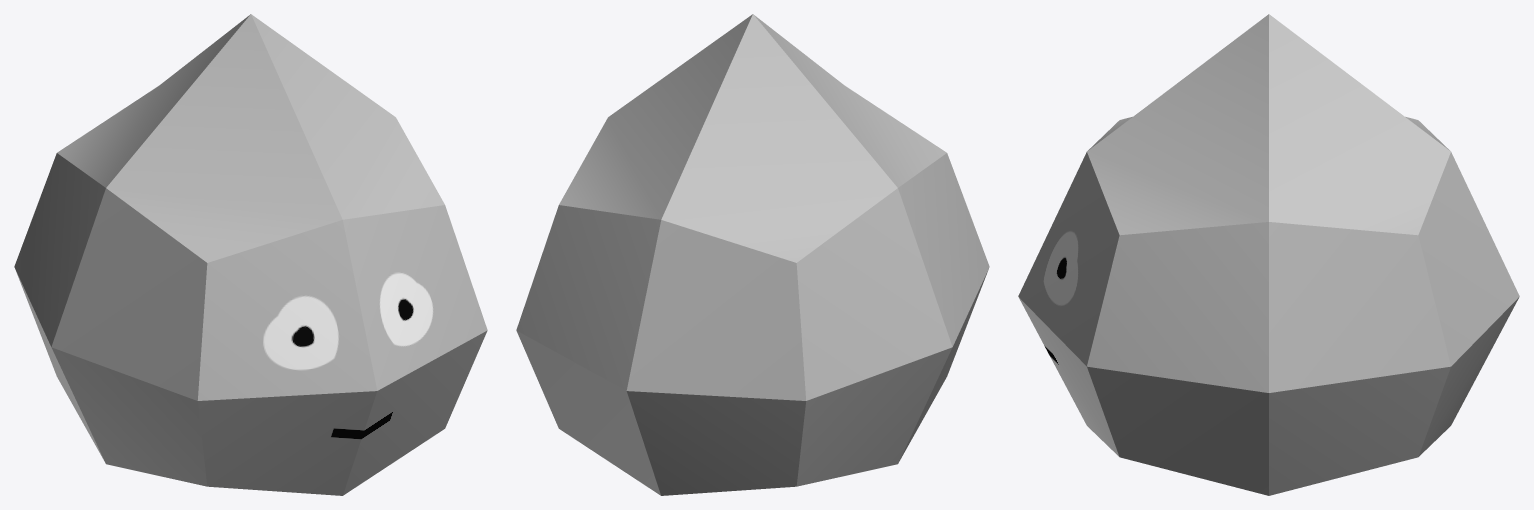
The model's file is player.obj.
The picture shows the model from 3 angles, left to right: view 1: azimuth 30°, elevation 25°; view 2: azimuth 150°, elevation 25°; view 3: azimuth 270°, elevation 25°; orthographic projection.
Parts seen in each view (by area): view 1: 立方体; view 2: 立方体; view 3: 立方体.
Boxes of the visible parts, x1,y1,x2,y2 form: 立方体: (14, 14, 487, 495); 立方体: (516, 14, 989, 495); 立方体: (1018, 14, 1519, 495).
Size of the model in its own units: 0.8731 by 0.9232 by 0.957.
